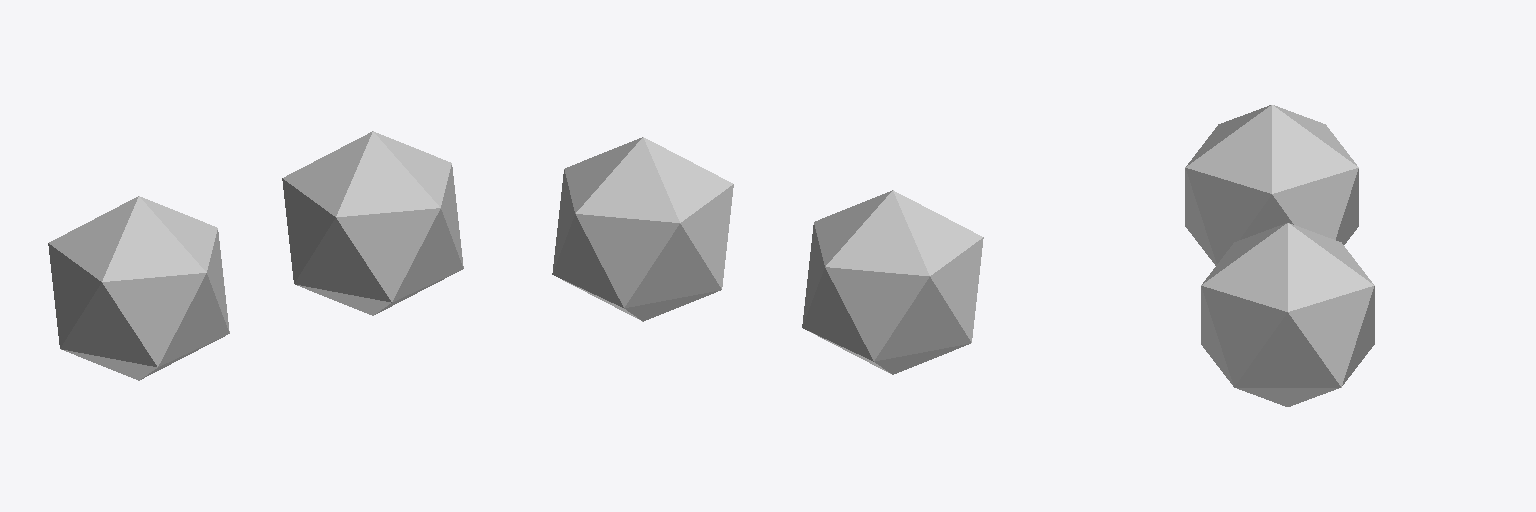
The model's file is double-ball-bonus.obj.
The picture shows the model from 3 angles: view 1: azimuth 30°, elevation 25°; view 2: azimuth 150°, elevation 25°; view 3: azimuth 270°, elevation 25°; orthographic projection.
Size of the model in its own units: 1.12 by 0.4946 by 0.4588.